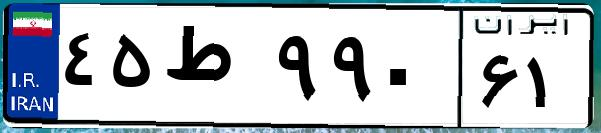0: (385, 28, 445, 110)
1: (525, 38, 570, 115)
4: (57, 26, 110, 100)
5: (110, 28, 158, 98)
6: (475, 38, 525, 113)
9: (270, 28, 330, 110), (330, 28, 385, 110)
ط: (158, 20, 270, 120)
